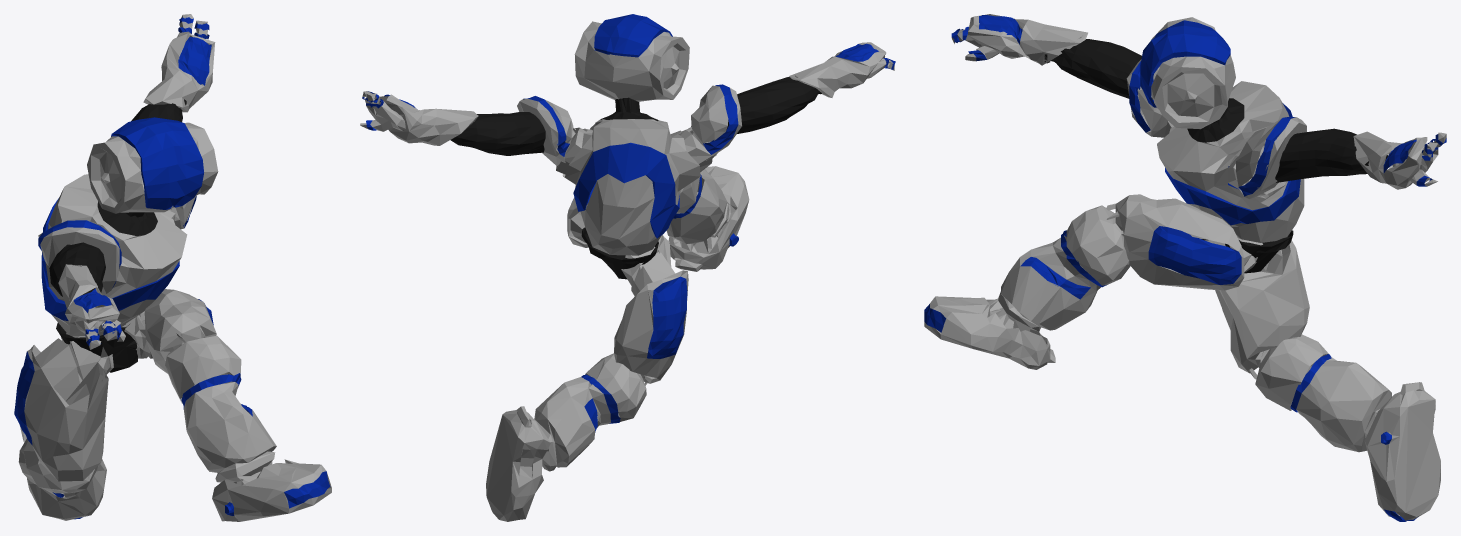
File: run_jump4.obj
3 views of the same model, side by side, from view 1: azimuth 30°, elevation 25°; view 2: azimuth 150°, elevation 25°; view 3: azimuth 270°, elevation 25° (orthographic). The views are drawn at different scales.
Visible parts, largest first — view 1: Robot2.001_Robot2Mesh.000, Robot2_Robot2Mesh.001, Robot2.002_Robot2Mesh.002; view 2: Robot2.001_Robot2Mesh.000, Robot2_Robot2Mesh.001, Robot2.002_Robot2Mesh.002; view 3: Robot2.001_Robot2Mesh.000, Robot2_Robot2Mesh.001, Robot2.002_Robot2Mesh.002.
Part boxes in pixels (x1,y1,x2,y2): Robot2.001_Robot2Mesh.000: (18,14,331,521); Robot2_Robot2Mesh.001: (14,17,330,519); Robot2.002_Robot2Mesh.002: (49,99,186,372); Robot2.001_Robot2Mesh.000: (360,21,894,521); Robot2_Robot2Mesh.001: (362,14,895,432); Robot2.002_Robot2Mesh.002: (450,77,821,279); Robot2.001_Robot2Mesh.000: (924,14,1446,520); Robot2_Robot2Mesh.001: (924,15,1446,521); Robot2.002_Robot2Mesh.002: (1044,39,1387,273).
Bounding box in the file's own units: 1.49 × 1.92 × 1.91.
